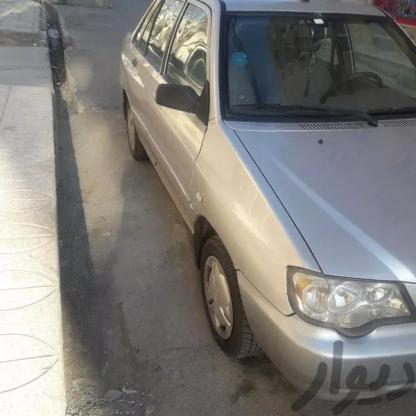Car: (105, 0, 416, 416)
